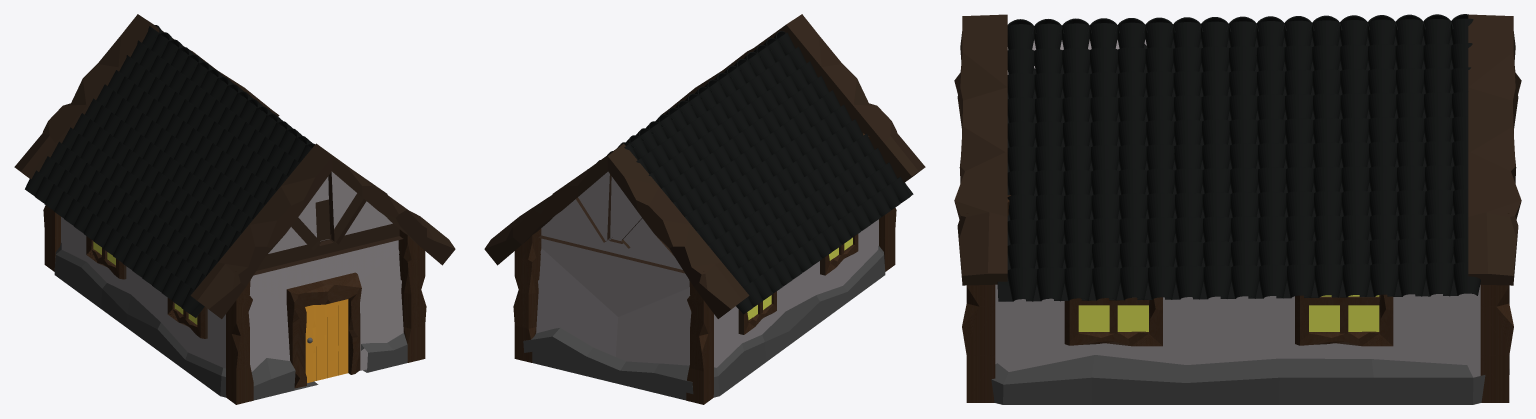
File: medieval_house_medium_02.fbx
The picture shows the model from 3 angles, left to right: view 1: azimuth 30°, elevation 25°; view 2: azimuth 150°, elevation 25°; view 3: azimuth 270°, elevation 25°; orthographic projection. The views are drawn at different scales.
Parts seen in each view (by area): view 1: Circle, Plane, Plane.001, Plane.016, Plane.017, Plane.003, Plane.006, Plane.002, Plane.005, Plane.007, Plane.008; view 2: Circle, Plane, Plane.001, Plane.016, Plane.017, Plane.002, Plane.008, Plane.007; view 3: Circle, Plane.001, Plane, Plane.016, Plane.017, Plane.008, Plane.007, Plane.013, Plane.009, Plane.015.
Boxes of the visible parts, x1=… form: Circle: x1=25, y1=25, x2=314, y2=317; Plane: x1=61, y1=171, x2=403, y2=371; Plane.001: x1=14, y1=14, x2=455, y2=318; Plane.016: x1=54, y1=243, x2=407, y2=400; Plane.017: x1=43, y1=131, x2=426, y2=404; Plane.003: x1=286, y1=272, x2=361, y2=388; Plane.006: x1=305, y1=299, x2=348, y2=382; Plane.002: x1=253, y1=172, x2=403, y2=275; Plane.005: x1=291, y1=193, x2=366, y2=250; Plane.007: x1=167, y1=298, x2=207, y2=338; Plane.008: x1=86, y1=236, x2=126, y2=279; Circle: x1=587, y1=31, x2=913, y2=314; Plane: x1=536, y1=171, x2=878, y2=367; Plane.001: x1=484, y1=14, x2=925, y2=318; Plane.016: x1=523, y1=246, x2=885, y2=400; Plane.017: x1=513, y1=131, x2=896, y2=404; Plane.002: x1=538, y1=174, x2=684, y2=273; Plane.008: x1=738, y1=291, x2=776, y2=334; Plane.007: x1=820, y1=234, x2=858, y2=275; Circle: x1=997, y1=14, x2=1480, y2=301; Plane.001: x1=954, y1=14, x2=1521, y2=285; Plane: x1=995, y1=39, x2=1480, y2=377; Plane.016: x1=991, y1=285, x2=1509, y2=404; Plane.017: x1=962, y1=195, x2=1513, y2=402; Plane.008: x1=1295, y1=294, x2=1393, y2=346; Plane.007: x1=1064, y1=297, x2=1162, y2=346; Plane.013: x1=1309, y1=295, x2=1379, y2=331; Plane.009: x1=1078, y1=305, x2=1148, y2=331; Plane.015: x1=1309, y1=296, x2=1379, y2=305.
Size of the model in its own units: 858 by 727 by 1158.
Materials: 7 (2 with a texture image).
